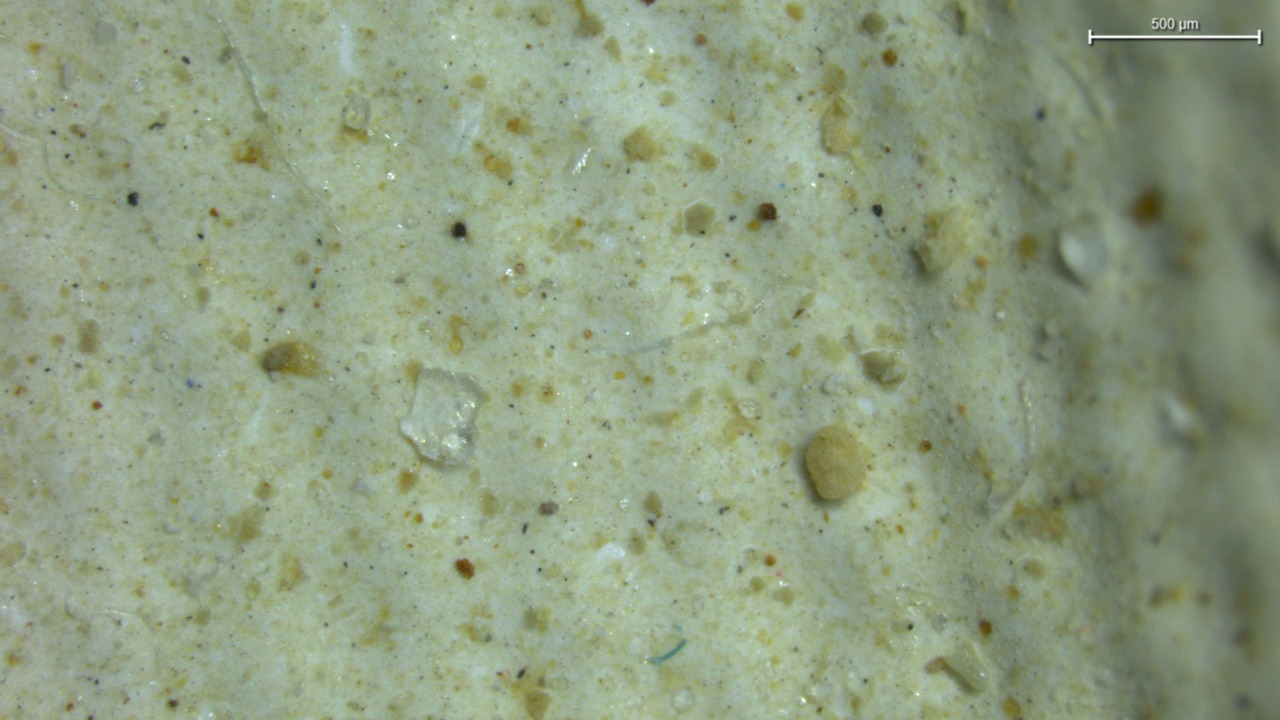microplastic_fragment: (400, 368, 486, 463), (805, 419, 871, 500)
